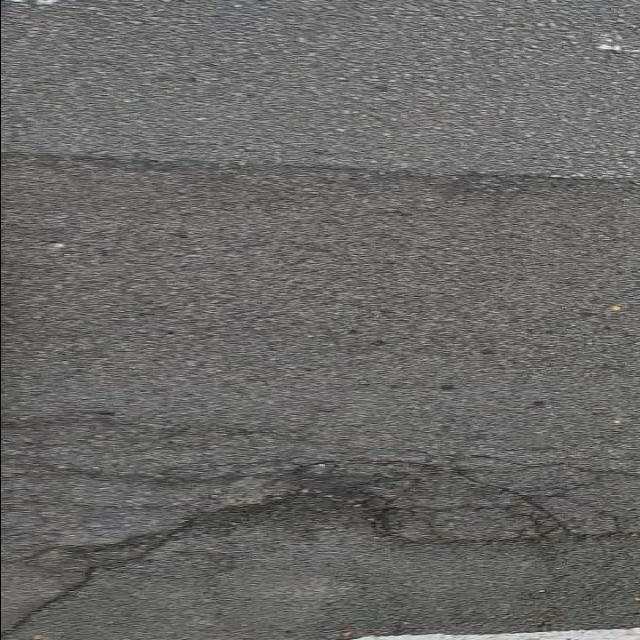cracks: (0, 405, 640, 635), (1, 134, 640, 204)
